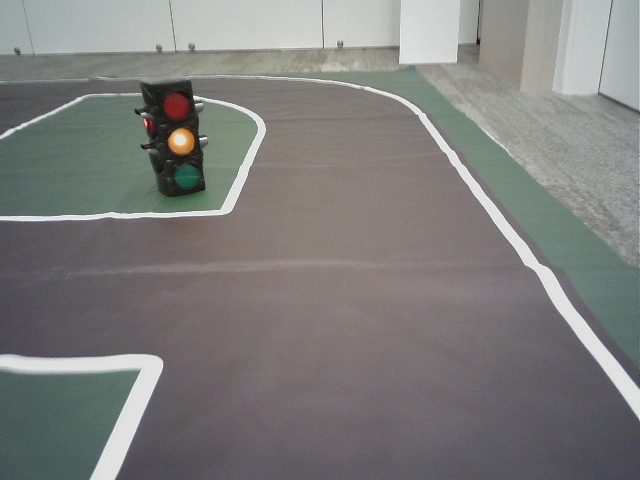yellow: (154, 85, 203, 189)
